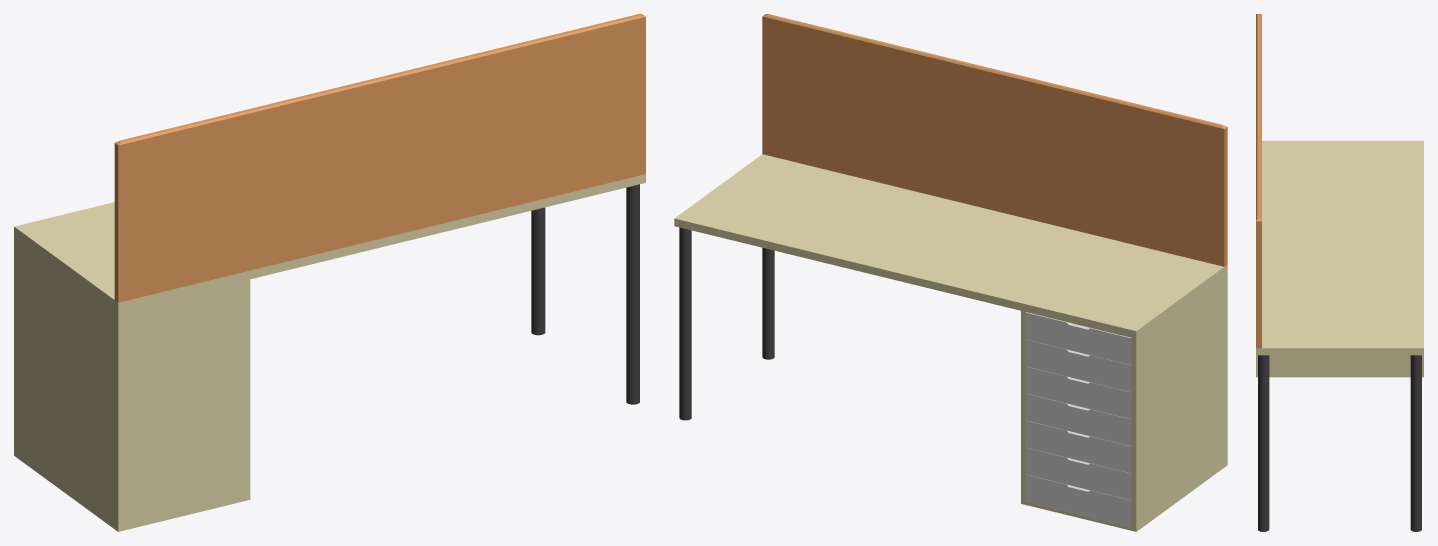
The model's file is Desk 1.fbx.
3 views of the same model, side by side, from view 1: azimuth 30°, elevation 25°; view 2: azimuth 150°, elevation 25°; view 3: azimuth 270°, elevation 25° (orthographic). The views are drawn at different scales.
Visible parts, largest first — view 1: Cube.002, Cube, Cube.001; view 2: Cube.002, Cube, Cube.001, Cube.009, Cube.008, Cube.005, Cube.003, Cube.004, Cube.007, Cube.006; view 3: Cube, Cube.001, Cube.002.
Boxes of the visible parts, x1,y1,x2,y2 form: Cube.002: (114, 14, 645, 302); Cube: (14, 174, 645, 531); Cube.001: (531, 184, 639, 404); Cube.002: (762, 14, 1227, 266); Cube: (674, 154, 1227, 531); Cube.001: (679, 227, 774, 420); Cube.009: (1025, 312, 1131, 364); Cube.008: (1025, 393, 1131, 445); Cube.005: (1025, 420, 1131, 472); Cube.003: (1025, 474, 1131, 526); Cube.004: (1025, 447, 1131, 499); Cube.007: (1025, 366, 1131, 418); Cube.006: (1025, 339, 1131, 391); Cube: (1256, 140, 1423, 377); Cube.001: (1258, 355, 1421, 531); Cube.002: (1256, 14, 1261, 348).
Size of the model in its own units: 801 by 563 by 274.
